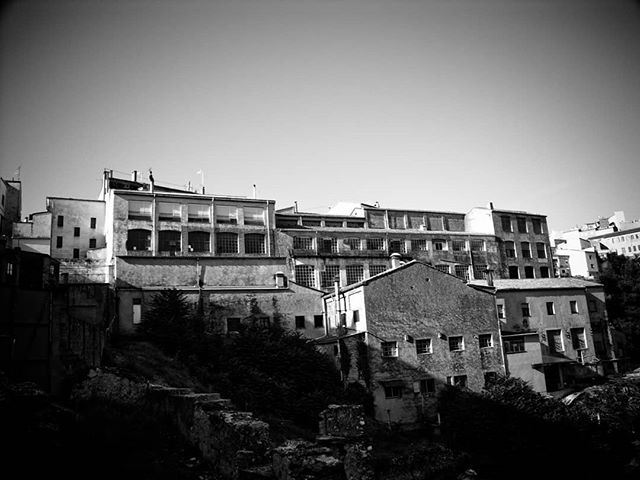building: (100, 185, 612, 407), (320, 263, 512, 412)
sky: (1, 1, 630, 204)
tree: (145, 297, 373, 428)
